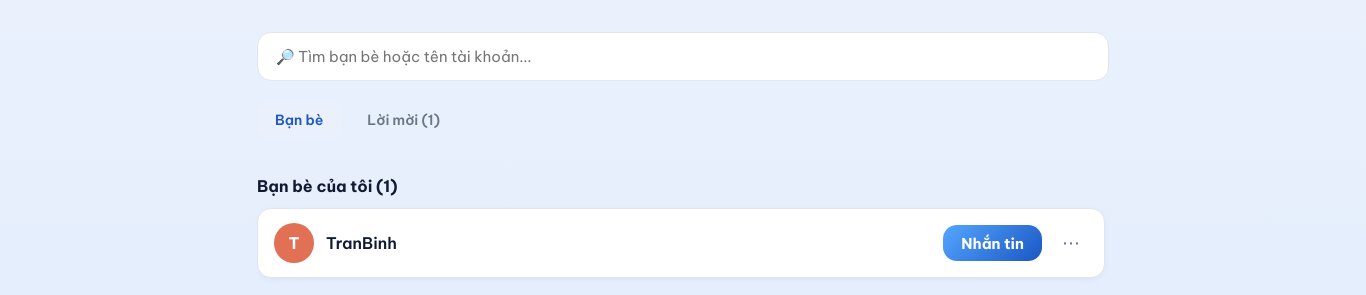
Scenario: TrangBanBe › nguoi cho phep nguoi la nhan tin: hien ca Nhan tin va Ket ban
Expected: the text "TranBinh" is shown, [326,233,397,253]
Type "PhamD" into the field with placeholder "🔎 Tìm bạn bè hoặc tên tài khoản...".
click(683, 56); type("PhamD")  # box [257,32,1109,81]
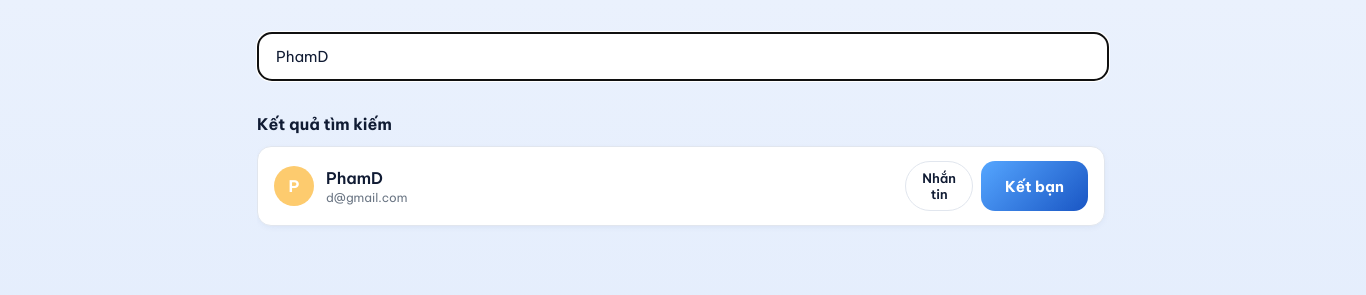
Expected: the button "Nhắn tin" is shown, [905,161,973,211]
Expected: the button "Kết bạn" is shown, [981,161,1088,211]
